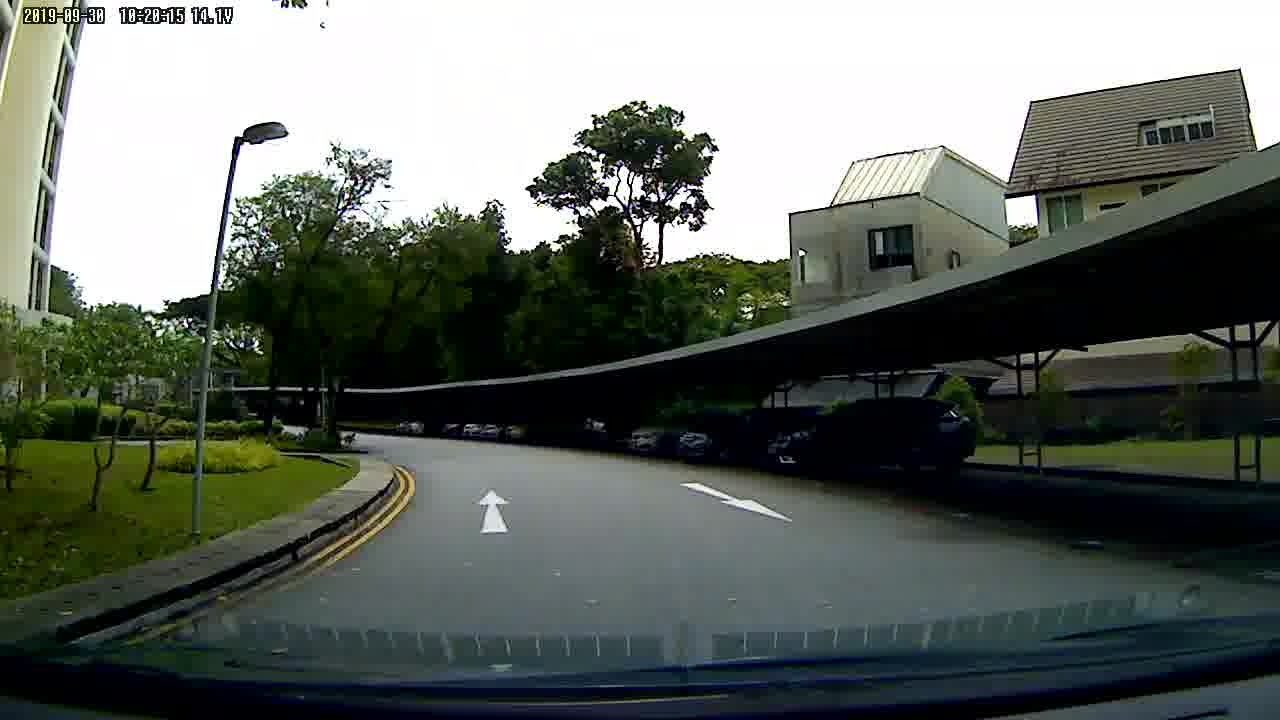car: (760, 398, 981, 481)
